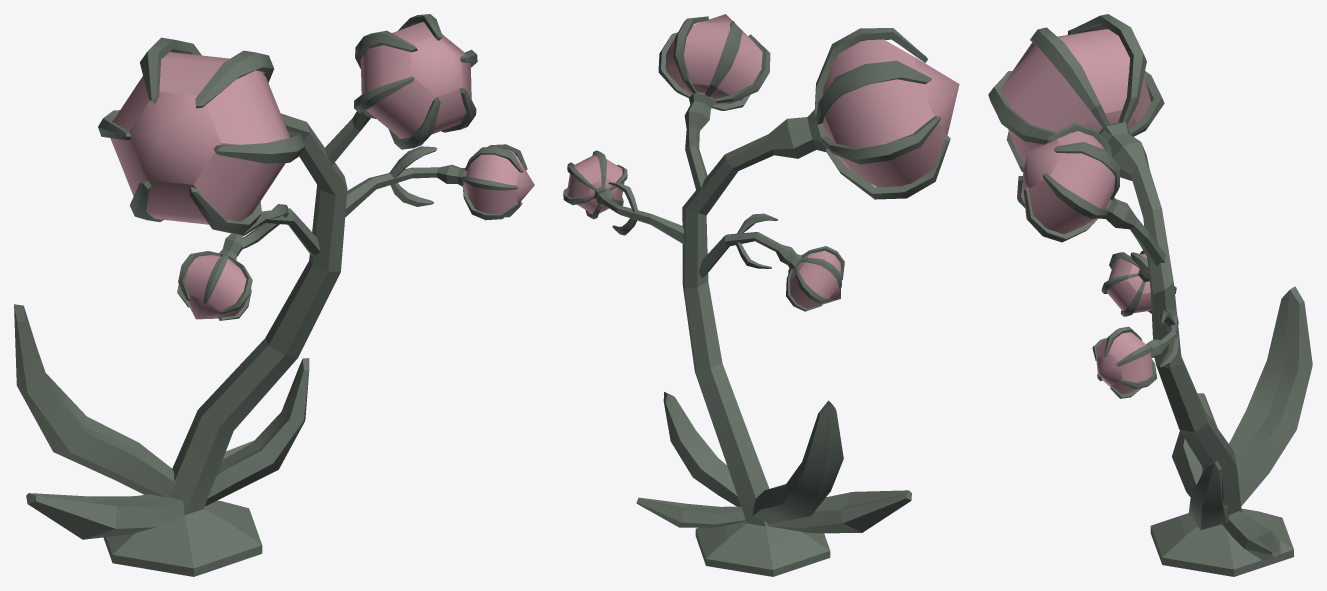
File: TTU_Plant.fbx
3 views of the same model, side by side, from view 1: azimuth 30°, elevation 25°; view 2: azimuth 150°, elevation 25°; view 3: azimuth 270°, elevation 25° (orthographic). The views are drawn at different scales.
Visible parts, largest first — view 1: polySurface51, polySurface42; view 2: polySurface51, polySurface42; view 3: polySurface51, polySurface42.
Part boxes in pixels (x1=…): polySurface51: x1=14, y1=14, x2=527, y2=576; polySurface42: x1=110, y1=22, x2=534, y2=319; polySurface51: x1=563, y1=16, x2=950, y2=576; polySurface42: x1=567, y1=14, x2=959, y2=308; polySurface51: x1=988, y1=14, x2=1312, y2=576; polySurface42: x1=1001, y1=29, x2=1152, y2=394.
Size of the model in its own units: 5.96 by 7.04 by 4.2.
